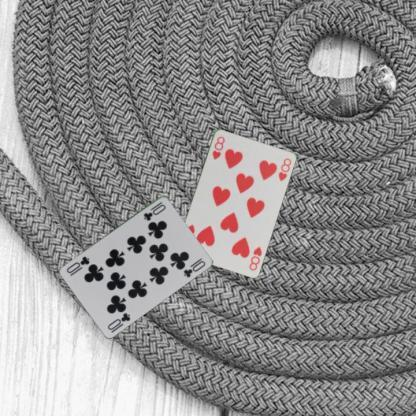10c: (141, 199, 167, 222), (106, 310, 132, 332)
8h: (246, 244, 263, 272), (210, 134, 226, 160)
